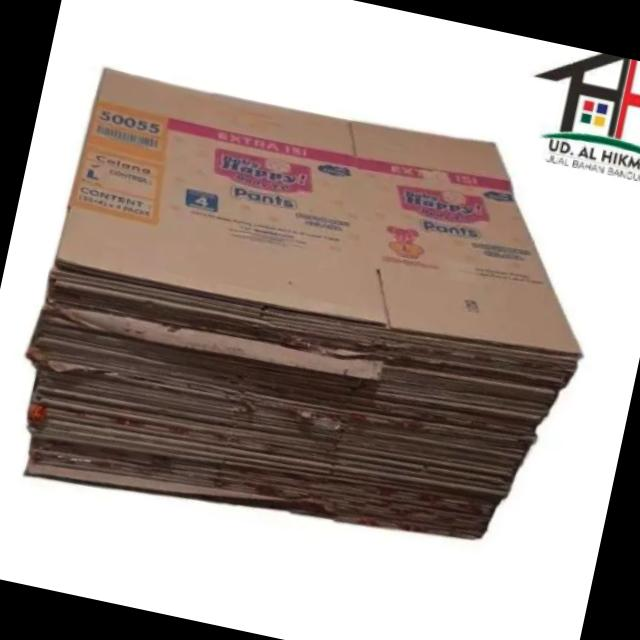Kardus: (0, 53, 623, 583)
